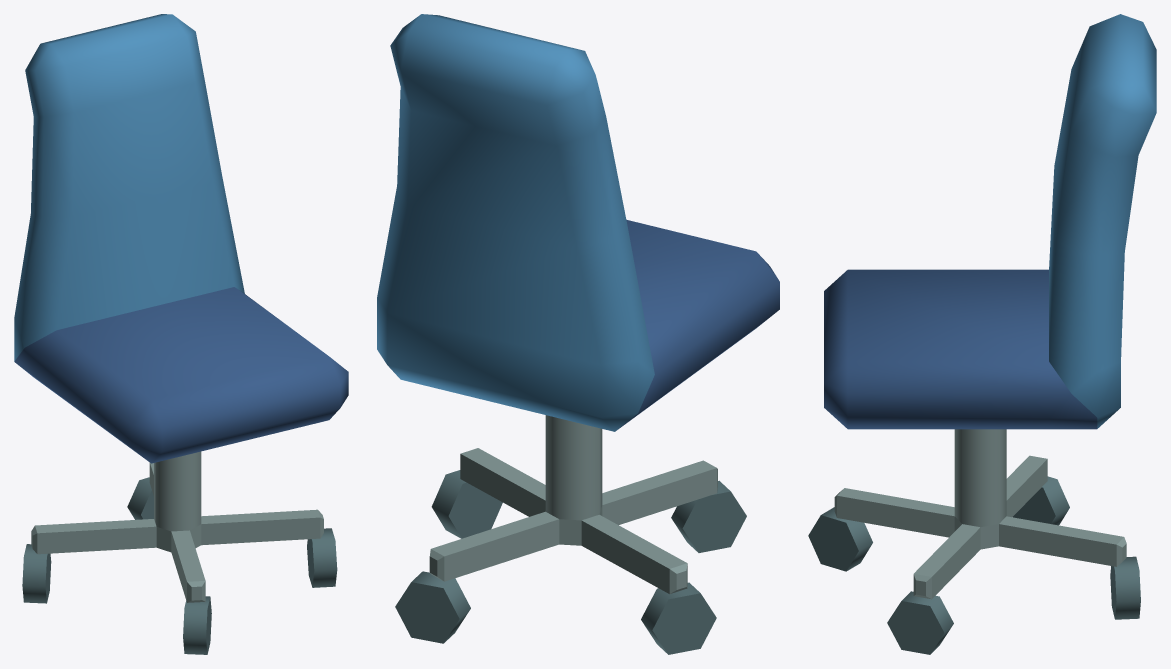
File: ChairHallway.fbx
The picture shows the model from 3 angles, left to right: view 1: azimuth 30°, elevation 25°; view 2: azimuth 150°, elevation 25°; view 3: azimuth 270°, elevation 25°; orthographic projection. The views are drawn at different scales.
Parts seen in each view (by area): view 1: ChairHallway; view 2: ChairHallway; view 3: ChairHallway.
Boxes of the visible parts, left/top/right/bottom form: ChairHallway: left=14, top=14, right=348, bottom=654; ChairHallway: left=377, top=14, right=779, bottom=654; ChairHallway: left=808, top=14, right=1156, bottom=654.
Bounding box in the file's own units: 58.59 × 105 × 61.28.
